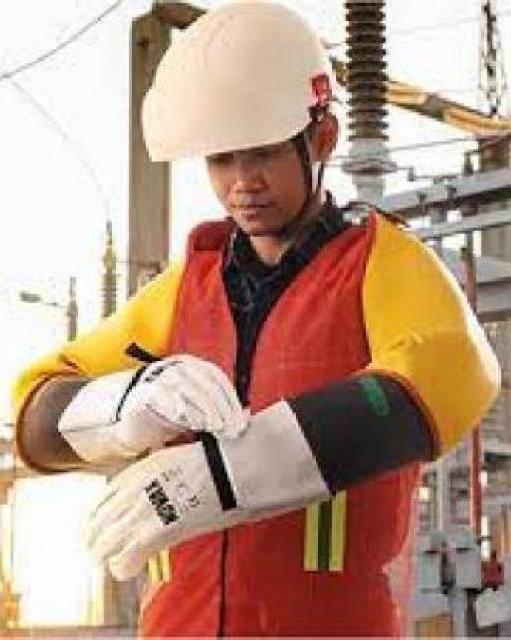hat: (109, 1, 349, 196)
vest: (113, 191, 431, 640)
